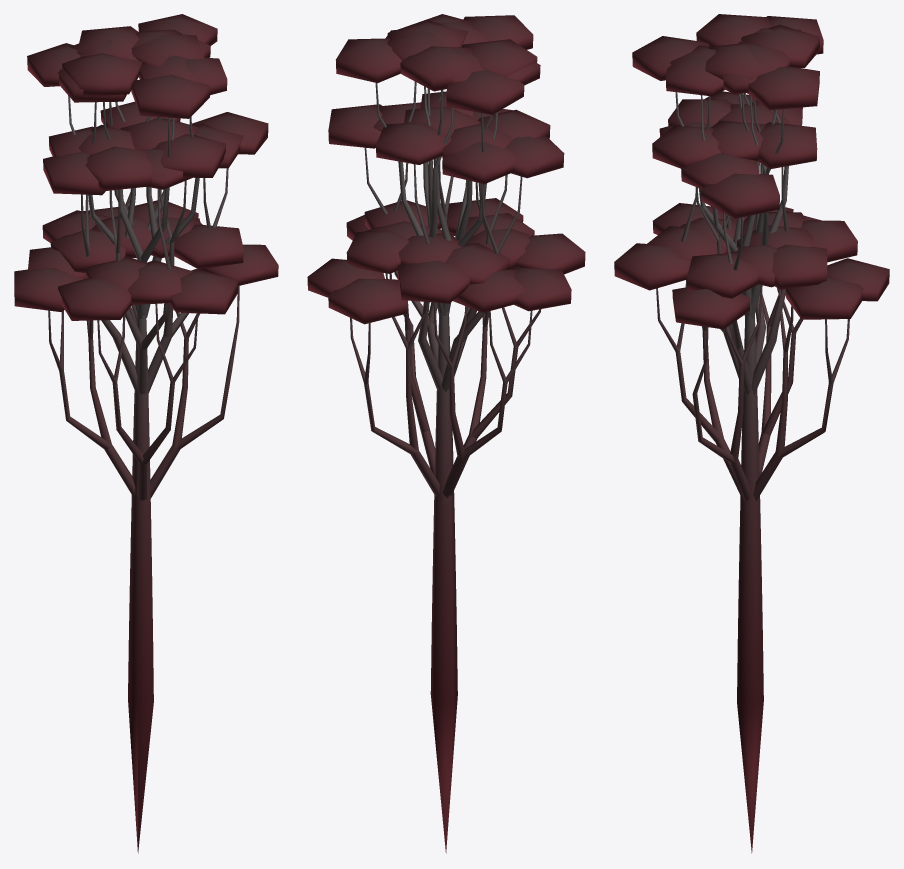
Rendered from plants-trees-palms-tiered-red-tree_v3.fbx.
3 views of the same model, side by side, from view 1: azimuth 30°, elevation 25°; view 2: azimuth 150°, elevation 25°; view 3: azimuth 270°, elevation 25° (orthographic).
Parts seen in each view (by area): view 1: Tiered Red Tree_v3; view 2: Tiered Red Tree_v3; view 3: Tiered Red Tree_v3.
Boxes of the visible parts, x1,y1,x2,y2 form: Tiered Red Tree_v3: (14, 14, 278, 853); Tiered Red Tree_v3: (307, 14, 585, 853); Tiered Red Tree_v3: (614, 14, 889, 853).
Bounding box in the file's own units: 1.9 × 6 × 1.83.
